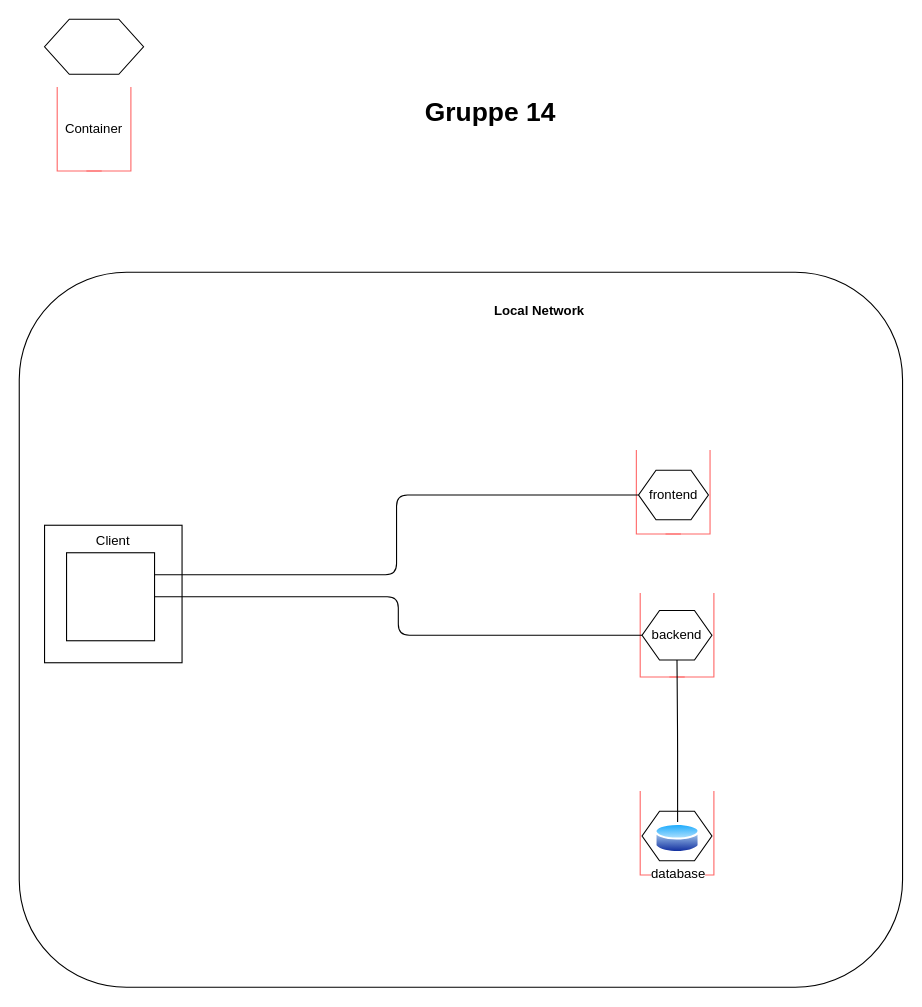
This 922x1007 diagram has some shape labels left out. The shapes that lost their labels are listed below. From the top down, each one's centre as x and y in pixels, then its label:
point 93,46: Microservice
point 110,596: Browser
